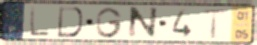4: (171, 8, 195, 39)
D: (56, 6, 85, 39)
G: (95, 7, 124, 40)
L: (28, 6, 53, 38)
N: (126, 5, 160, 40)
T: (202, 8, 229, 40)
